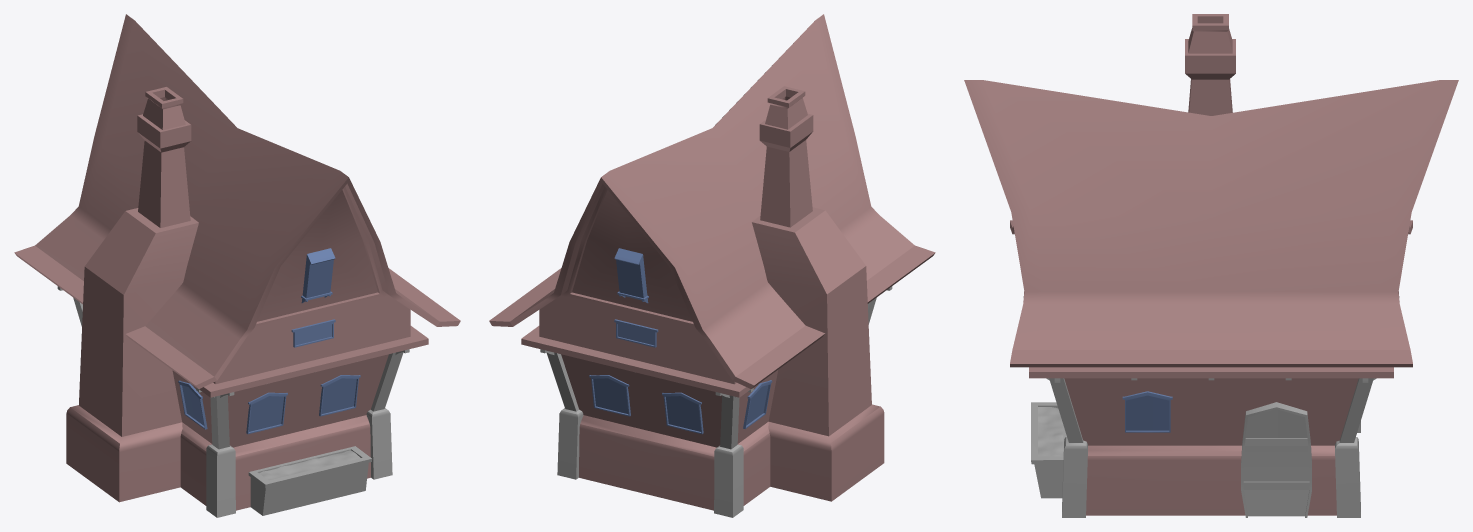
The model's file is Casa con UV.fbx.
The picture shows the model from 3 angles, left to right: view 1: azimuth 30°, elevation 25°; view 2: azimuth 150°, elevation 25°; view 3: azimuth 270°, elevation 25°; orthographic projection. The views are drawn at different scales.
Parts seen in each view (by area): view 1: polySurface294_f_3_, pasted__polySurface271, group1_pasted__polySurface260; view 2: polySurface294_f_3_, group1_pasted__polySurface260, pasted__polySurface271; view 3: polySurface294_f_3_, pasted__polySurface271, group1_pasted__polySurface260.
Part boxes in pixels (x1,y1,x2,y2): polySurface294_f_3_: [14, 14, 460, 510]; pasted__polySurface271: [57, 286, 409, 517]; group1_pasted__polySurface260: [178, 248, 360, 434]; polySurface294_f_3_: [489, 14, 935, 510]; group1_pasted__polySurface260: [589, 248, 772, 434]; pasted__polySurface271: [540, 286, 892, 517]; polySurface294_f_3_: [964, 14, 1458, 515]; pasted__polySurface271: [1031, 378, 1376, 517]; group1_pasted__polySurface260: [1122, 391, 1172, 432].
Bounding box in the file's own units: 14.95 × 19.04 × 20.79.
